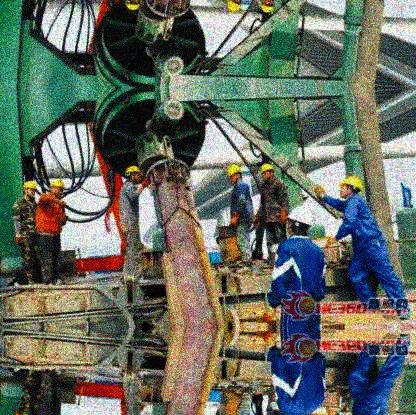helmet: (286, 205, 316, 237), (339, 174, 366, 199), (123, 164, 143, 185), (258, 162, 277, 183), (21, 180, 39, 200), (225, 165, 243, 183), (50, 178, 65, 197), (124, 1, 145, 13), (261, 1, 276, 14), (227, 1, 244, 11)
